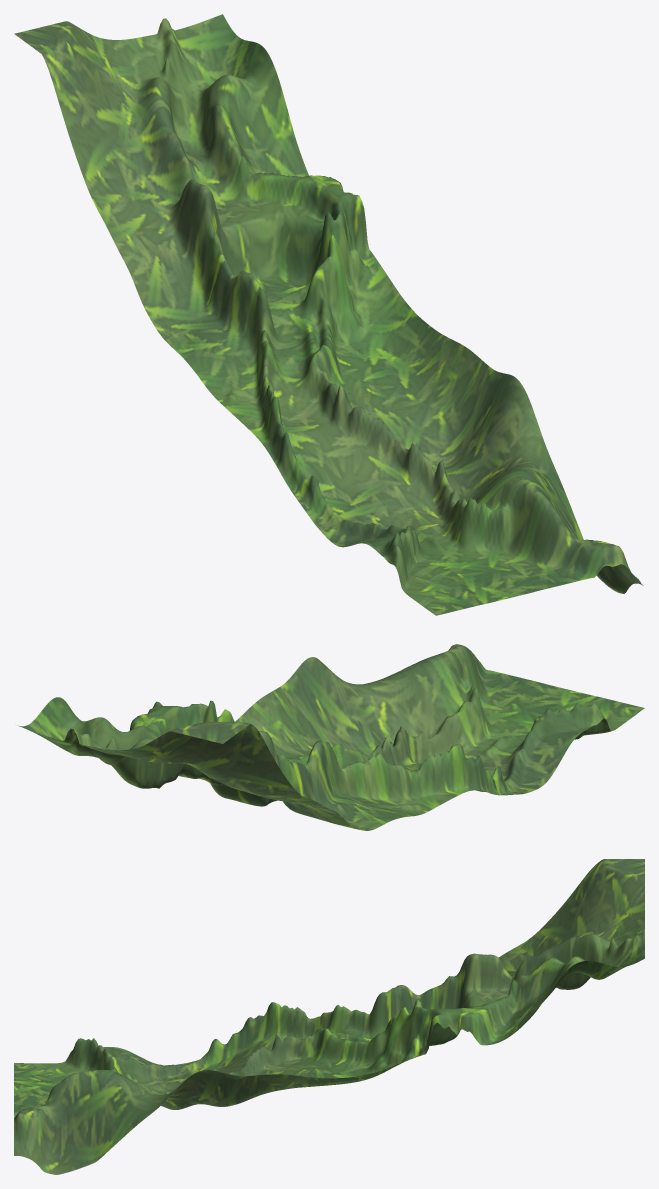
The model's file is tera4.gltf.
The picture shows the model from 3 angles, top to bottom: view 1: azimuth 30°, elevation 25°; view 2: azimuth 150°, elevation 25°; view 3: azimuth 270°, elevation 25°; orthographic projection. The views are drawn at different scales.
Visible parts, largest first — view 1: Snow_FirTree_x2_y3; view 2: Snow_FirTree_x2_y3; view 3: Snow_FirTree_x2_y3.
Boxes of the visible parts, left/top/right/bottom form: Snow_FirTree_x2_y3: left=14, top=14, right=643, bottom=615; Snow_FirTree_x2_y3: left=18, top=644, right=644, bottom=830; Snow_FirTree_x2_y3: left=14, top=859, right=644, bottom=1174.
Bounding box in the file's own units: 200 × 293 × 700.
1 material, 1 textured.
